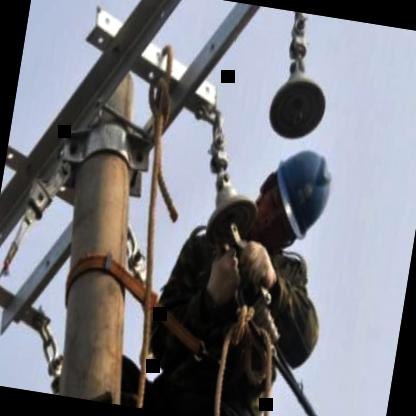helmet: (242, 131, 342, 260)
